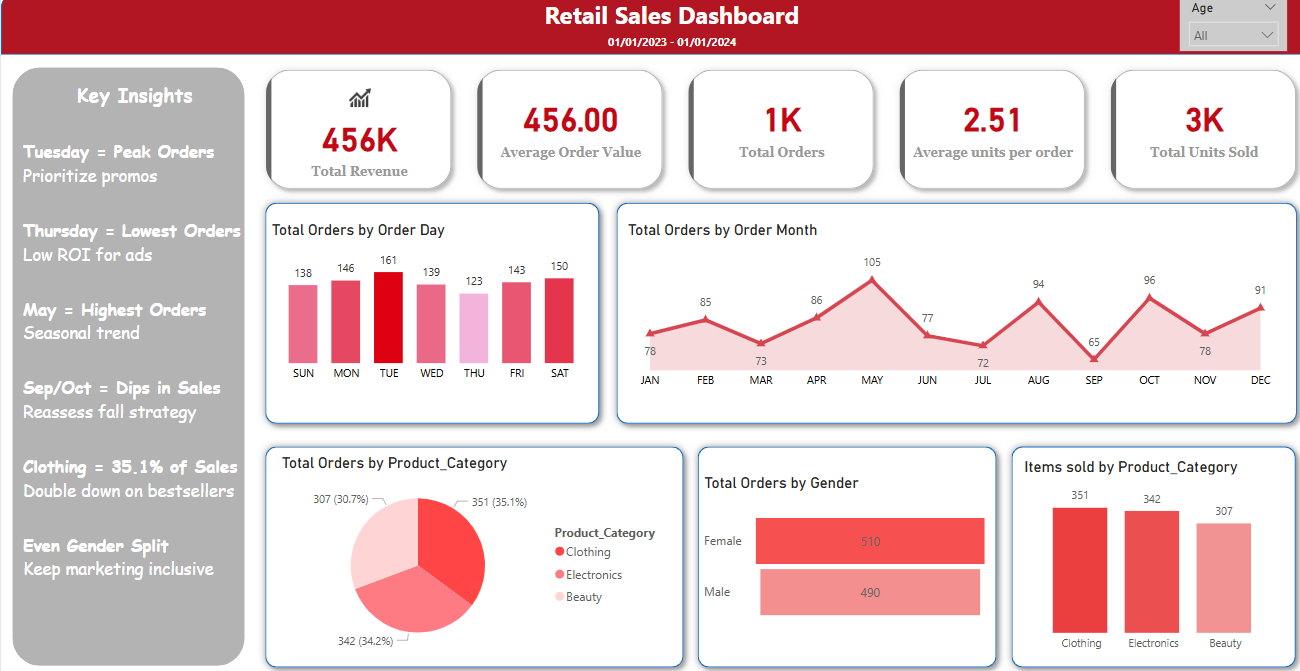

What the dashboard file says about the page in this screenshot:
{"tool":"powerbi","page":{"name":"Page 1","canvas":[1500,820],"ordinal":0},"visuals":[{"type":"cardVisual","fields":{"Data":["retail.Total Revenue","retail.Average Order Value","retail.Total Order","retail.Average Units Sold","retail.Unit Sold"]},"box":[279,94,1188.7,167.8],"z":0},{"type":"shape","box":[0,23.7,1455.6,69.8],"z":1000},{"type":"textbox","box":[595.4,25.3,309.3,47.5],"z":2000},{"type":"textbox","box":[656,64.7,187,29.3],"z":3000},{"type":"shape","box":[287.1,250.7,391.2,264.8],"z":4000},{"type":"columnChart","fields":{"Category":["retail.order day"],"Y":["retail.Total Orders"]},"box":[298.2,279,367.9,189],"z":5000},{"type":"shape","box":[678.2,250.7,778.3,264.8],"z":6000},{"type":"areaChart","fields":{"Y":["retail.Total Orders"],"Category":["retail.Order Month"]},"box":[695.4,279,741.9,196.1],"z":7000},{"type":"shape","box":[286.1,522.6,485.2,264.8],"z":8000},{"type":"pieChart","fields":{"Y":["retail.Total Orders"],"Category":["retail.Product_Category"]},"box":[308.3,538.7,441.7,231.5],"z":9000},{"type":"shape","box":[769.2,522.6,351.8,264.8],"z":10000},{"type":"funnel","fields":{"Category":["retail.Gender"],"Y":["retail.Total Orders"]},"box":[780.3,561,328.5,188],"z":11000},{"type":"shape","box":[1121,522.6,335.6,264.8],"z":12000},{"type":"columnChart","fields":{"Y":["retail.Amount sold"],"Category":["retail.Product_Category"]},"box":[1139.2,543.8,299.2,226.4],"z":13000},{"type":"shape","box":[12.1,108.2,259.8,669.1],"z":14000},{"type":"textbox","box":[19.6,118.7,259.8,648.2],"z":14001},{"type":"slicer","fields":{"Values":["retail.Age"]},"box":[1317.3,27.9,120.1,61.5],"z":14002}]}

Visuals, with their boxes in screenshot pixels (x1, y1, x2, y2):
cardVisual - retail.Total Revenue x retail.Average Order Value: pyautogui.locateOnScreen(262, 51, 1292, 196)
shape: pyautogui.locateOnScreen(20, 0, 1282, 51)
textbox: pyautogui.locateOnScreen(536, 0, 804, 33)
textbox: pyautogui.locateOnScreen(589, 26, 751, 51)
shape: pyautogui.locateOnScreen(269, 187, 608, 416)
columnChart - retail.order day x retail.Total Orders: pyautogui.locateOnScreen(279, 211, 597, 375)
shape: pyautogui.locateOnScreen(608, 187, 1282, 416)
areaChart - retail.Total Orders x retail.Order Month: pyautogui.locateOnScreen(623, 211, 1266, 381)
shape: pyautogui.locateOnScreen(268, 422, 689, 652)
pieChart - retail.Total Orders x retail.Product_Category: pyautogui.locateOnScreen(287, 436, 670, 637)
shape: pyautogui.locateOnScreen(687, 422, 992, 652)
funnel - retail.Gender x retail.Total Orders: pyautogui.locateOnScreen(696, 456, 981, 619)
shape: pyautogui.locateOnScreen(992, 422, 1282, 652)
columnChart - retail.Amount sold x retail.Product_Category: pyautogui.locateOnScreen(1007, 441, 1267, 637)
shape: pyautogui.locateOnScreen(31, 63, 256, 643)
textbox: pyautogui.locateOnScreen(37, 72, 262, 634)
slicer - retail.Age: pyautogui.locateOnScreen(1162, 0, 1266, 47)
